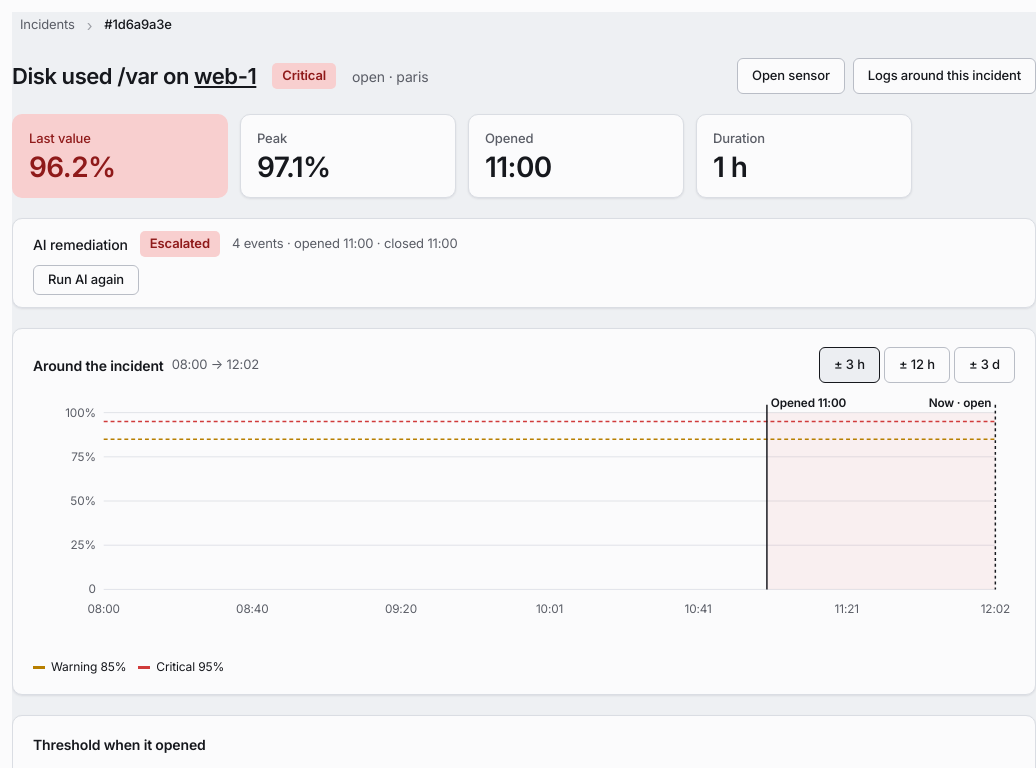
Test case: IncidentPage › running AI again (ADR-0165) › shows the server's refusal when starting fails
Click the button "Run AI again".
click(86, 280)  # box [33,265,139,295]
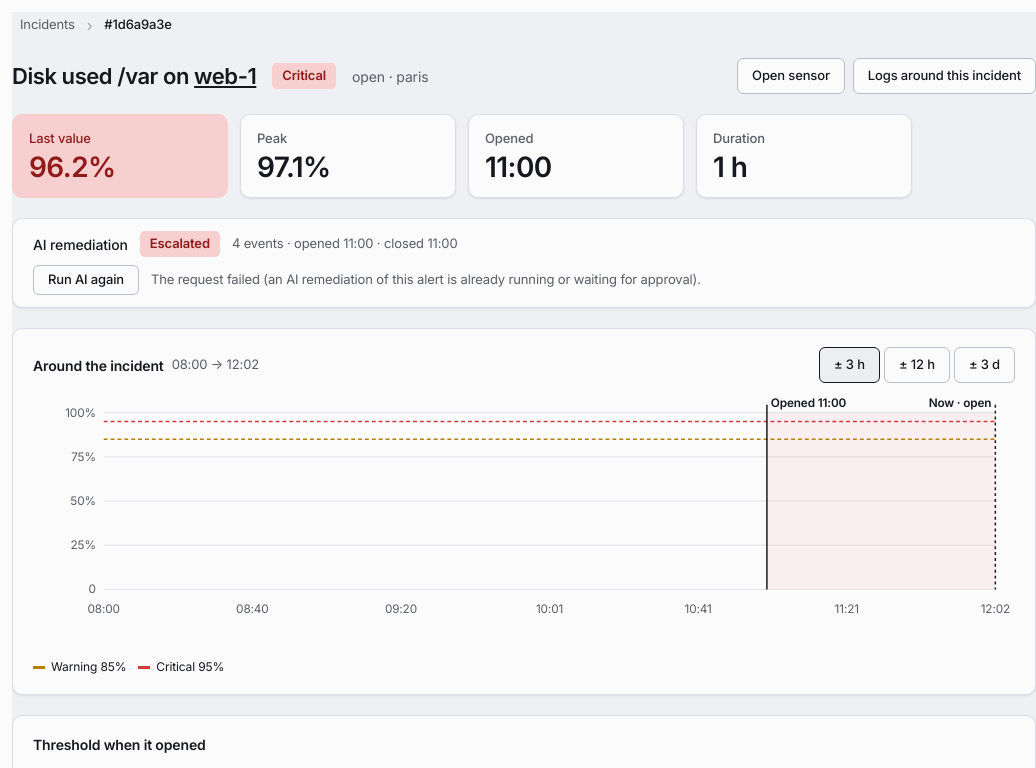
Check: the message shows "already running or waiting for approval", box [151,271,701,287]
